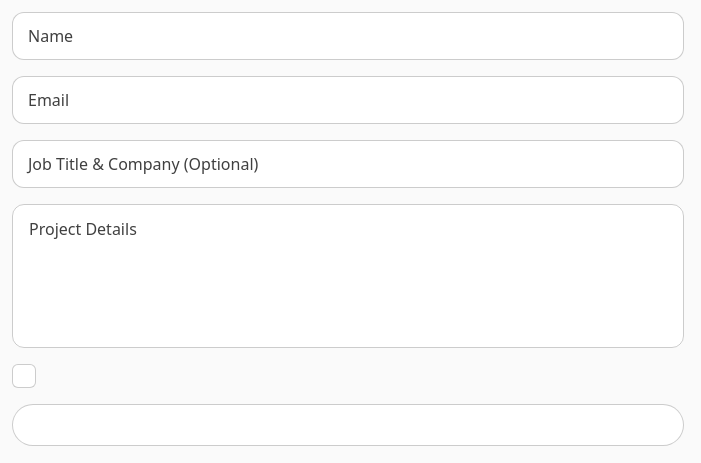
Test: ContactForm › shows error status card on database error
Type "Roman Jumatov" into the field labelled "Name". click: (348, 36)
box: [12,12,684,60]
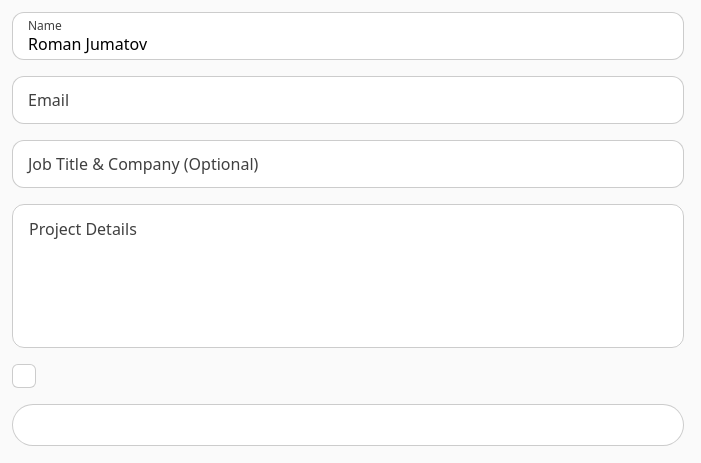
Type "fail@test.com" into the field labelled "Email". click: (348, 100)
box: [12,76,684,124]
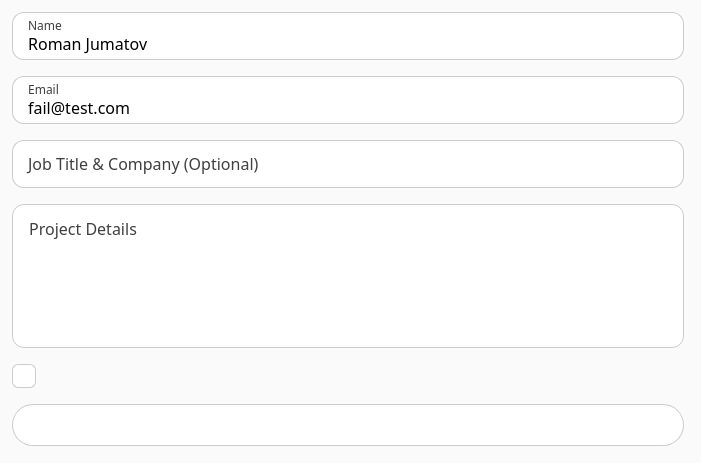
Type "Freelance Software Developer" into the field labelled "Job Title & Company (Optional)". click: (348, 164)
box: [12,140,684,188]
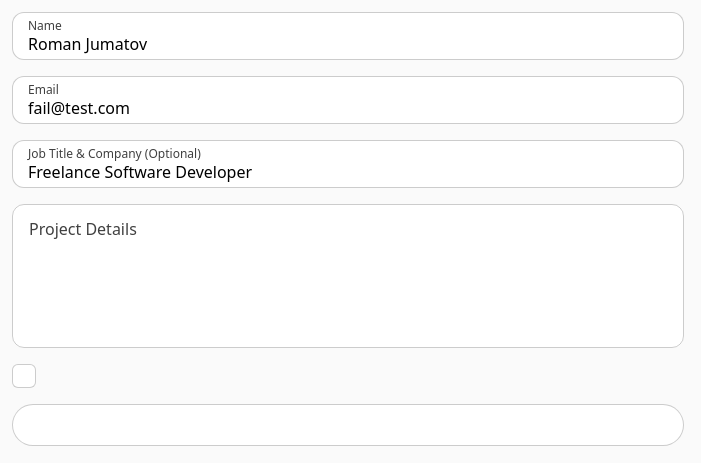
Type "Hey there, I have something in mind." into the text box labelled "Project Details". click: (348, 285)
box: [13,225,683,345]
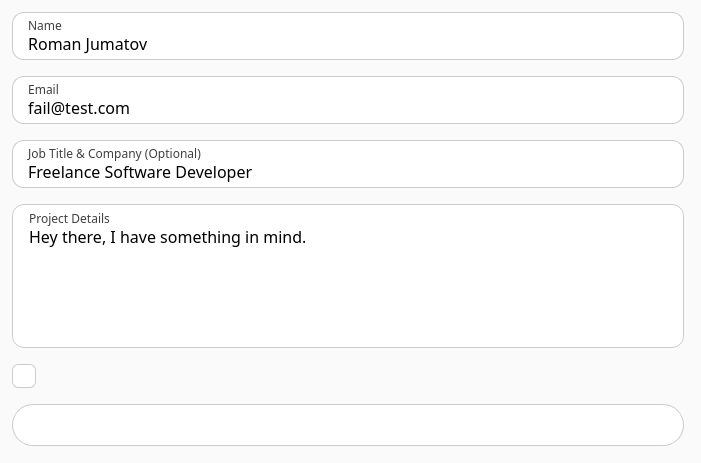
Click the checkbox. click: (24, 376)
box: [12,364,36,388]
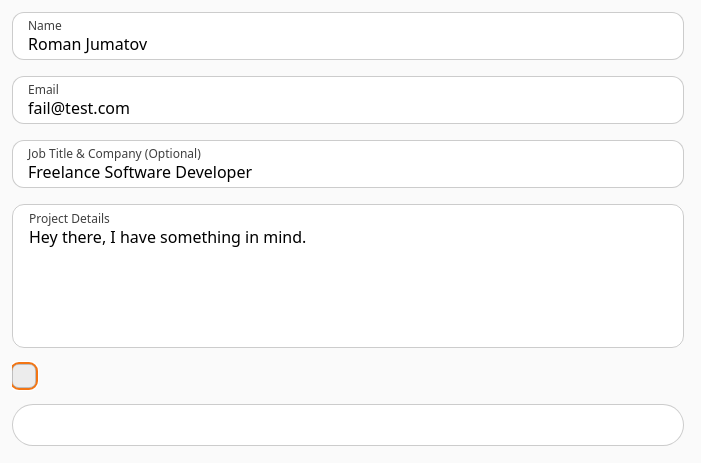
Click the button. click: (348, 425)
box: [12,404,684,446]
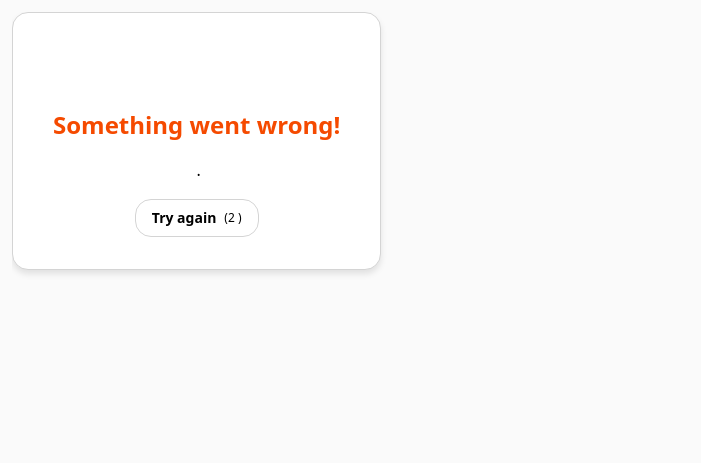
Expected: the heading "Something went wrong!" is shown, [53,109,340,141]
